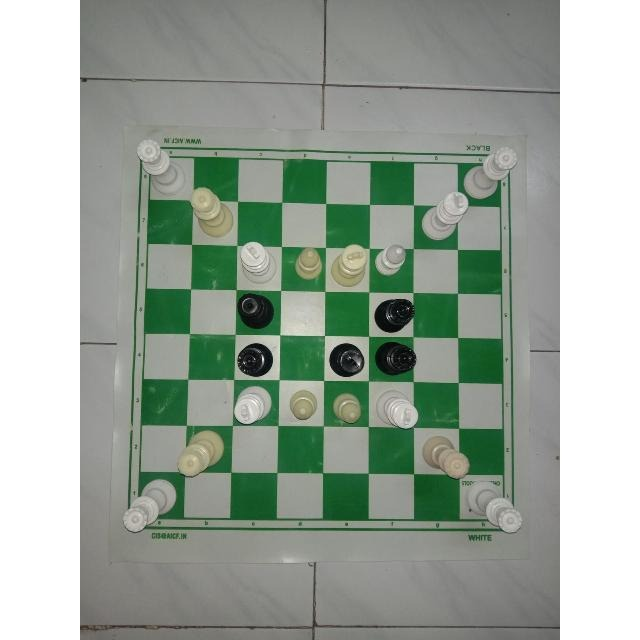black-king: (327, 340, 367, 380)
black-queen: (372, 294, 416, 334), (372, 340, 418, 378), (234, 290, 277, 330), (234, 339, 273, 378)
white-bishop: (331, 385, 365, 427), (285, 383, 319, 424), (290, 243, 323, 285), (371, 242, 408, 278)
white-king: (421, 190, 469, 242), (373, 386, 421, 432), (234, 239, 277, 284), (233, 383, 273, 427), (331, 244, 371, 288)
white-queen: (465, 478, 523, 535), (120, 479, 176, 535), (461, 146, 519, 200), (136, 138, 188, 196), (175, 426, 227, 478), (189, 186, 233, 238), (422, 434, 468, 478)
